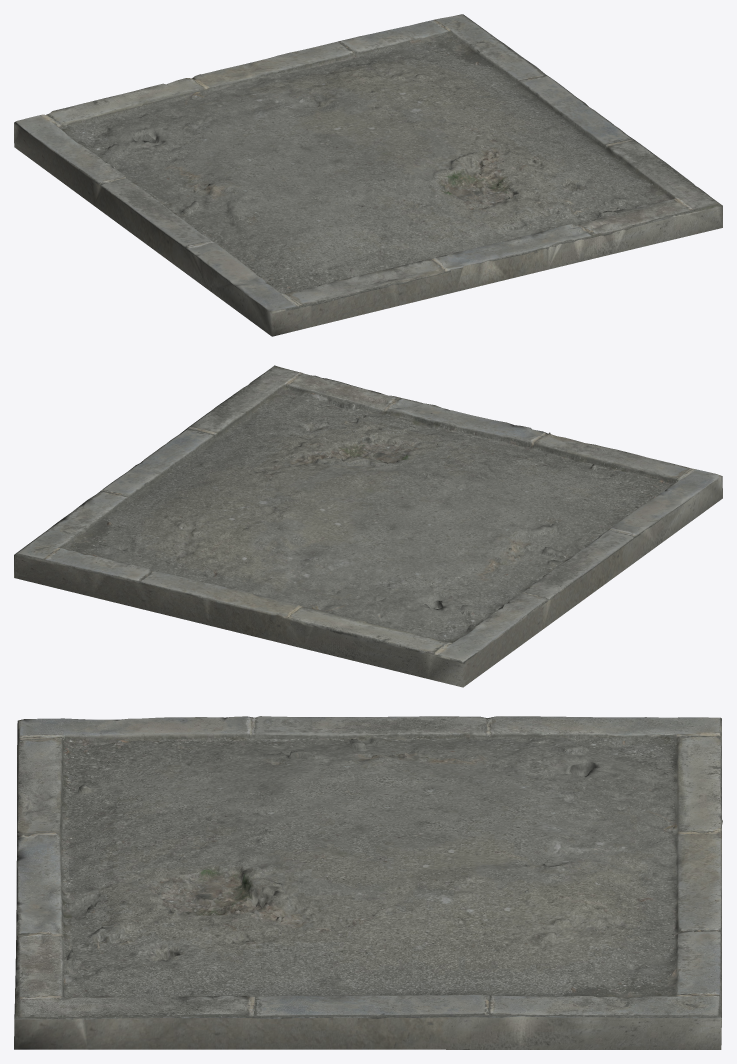
Rendered from PX_Tree_Pit_02_LOD1.fbx.
3 renders of one model, top to bottom at view 1: azimuth 30°, elevation 25°; view 2: azimuth 150°, elevation 25°; view 3: azimuth 270°, elevation 25°, orthographic. The views are drawn at different scales.
Visible parts, largest first — view 1: PX_Tree_Pit_02_LOD1; view 2: PX_Tree_Pit_02_LOD1; view 3: PX_Tree_Pit_02_LOD1.
Boxes of the visible parts, <box> form: PX_Tree_Pit_02_LOD1: <box>14,14,722,336</box>; PX_Tree_Pit_02_LOD1: <box>14,365,722,687</box>; PX_Tree_Pit_02_LOD1: <box>14,716,722,1049</box>.
Size of the model in its own units: 99.74 by 8.82 by 99.97.
